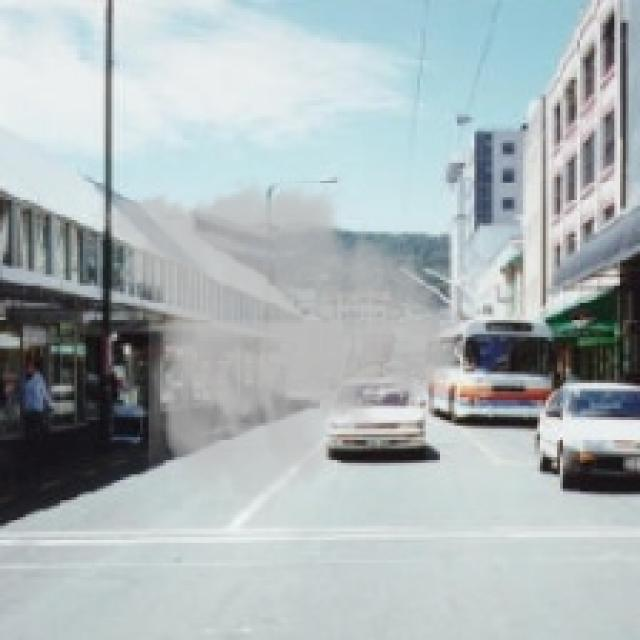smoke: (89, 172, 480, 514)
